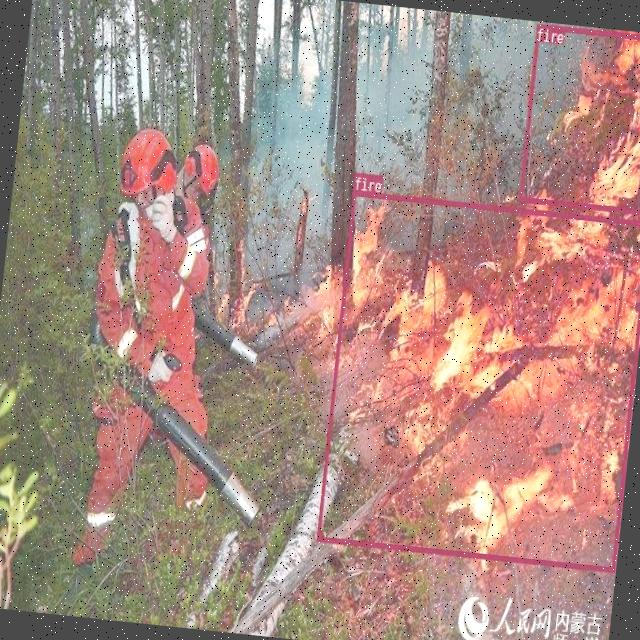fire: (315, 189, 640, 571), (517, 22, 640, 213)
